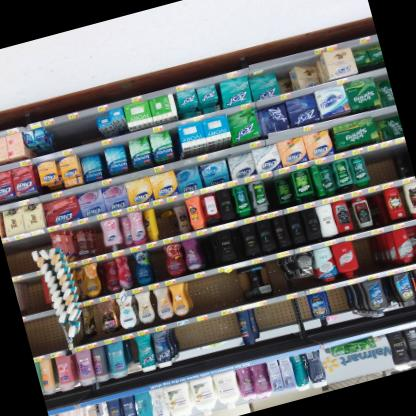empty_space: (167, 306, 243, 364), (250, 289, 316, 344), (186, 263, 245, 316), (46, 107, 102, 152), (22, 307, 68, 357), (363, 140, 400, 186), (12, 271, 46, 316), (1, 233, 35, 275), (349, 232, 379, 278), (324, 281, 356, 324)
